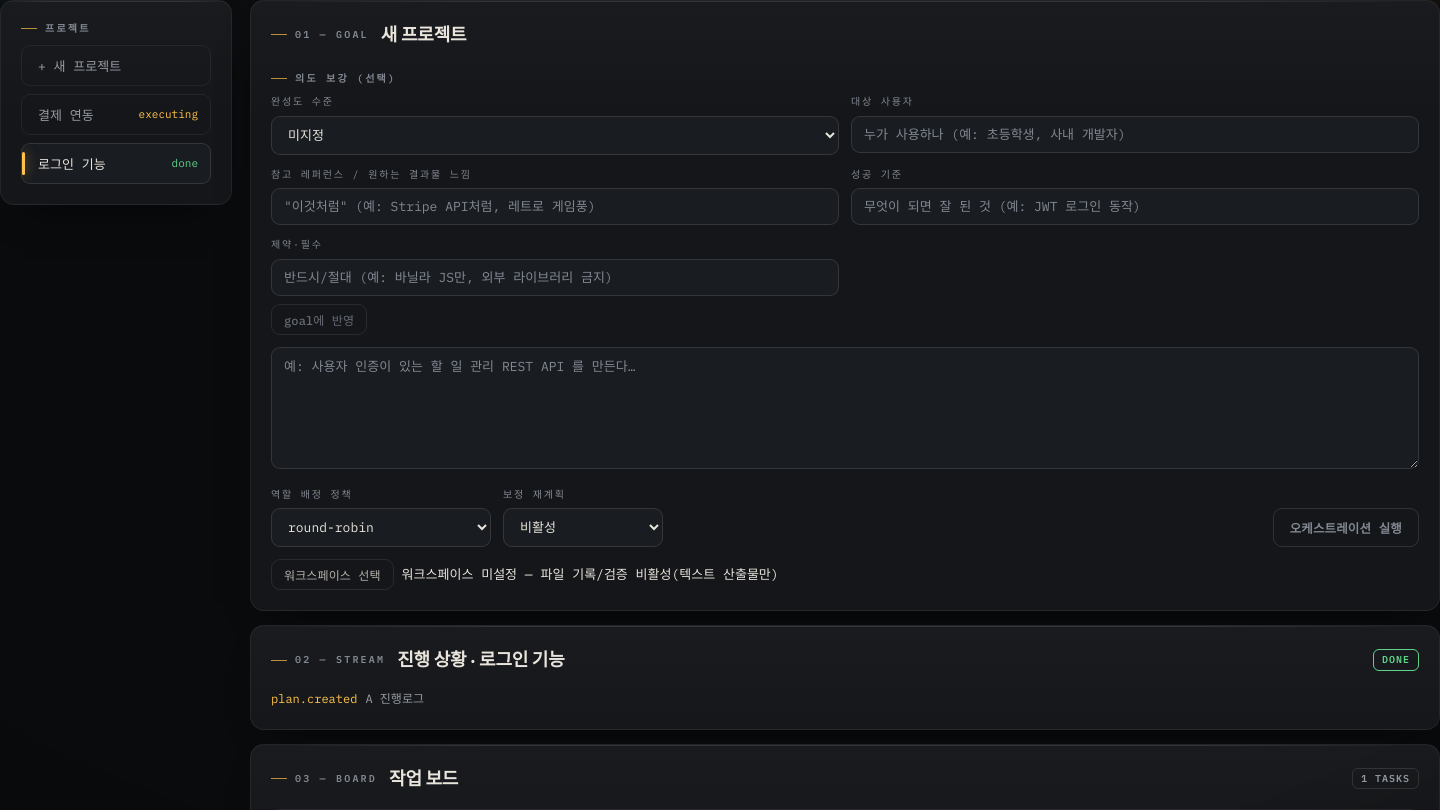
it: ProjectPanel › clears the previous board and log synchronously when switching projects
Expected: the text "A 진행로그" is shown, [365,690,424,709]
Click the text "결제 연동": (66, 114) [38,104,94,124]
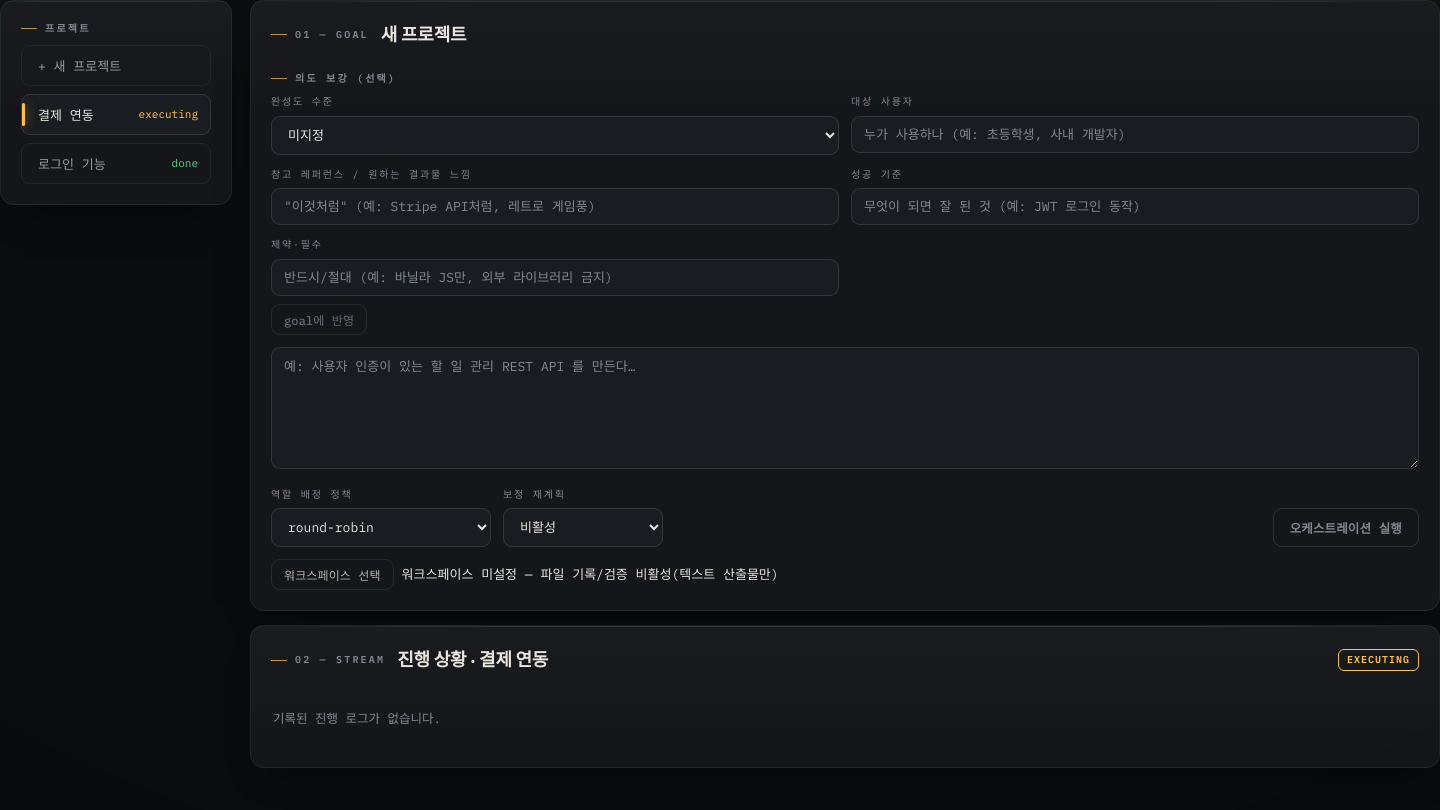
Result: the text "A 진행로그" is gone
